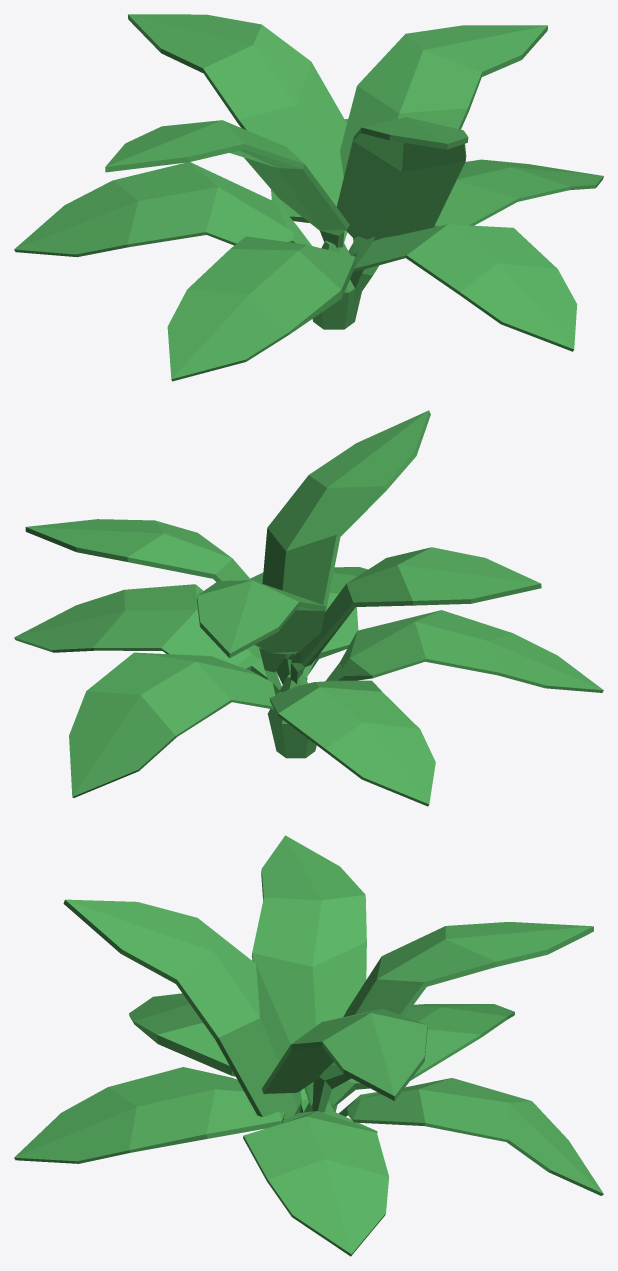
The model's file is Bush01.fbx.
3 renders of one model, top to bottom at view 1: azimuth 30°, elevation 25°; view 2: azimuth 150°, elevation 25°; view 3: azimuth 270°, elevation 25°, orthographic. The views are drawn at different scales.
Parts seen in each view (by area): view 1: Cube.005; view 2: Cube.005; view 3: Cube.005.
Boxes of the visible parts, <box> form: Cube.005: <box>14,14,603,381</box>; Cube.005: <box>14,410,603,806</box>; Cube.005: <box>14,835,603,1256</box>.
Bounding box in the file's own units: 113 × 55.77 × 109.
